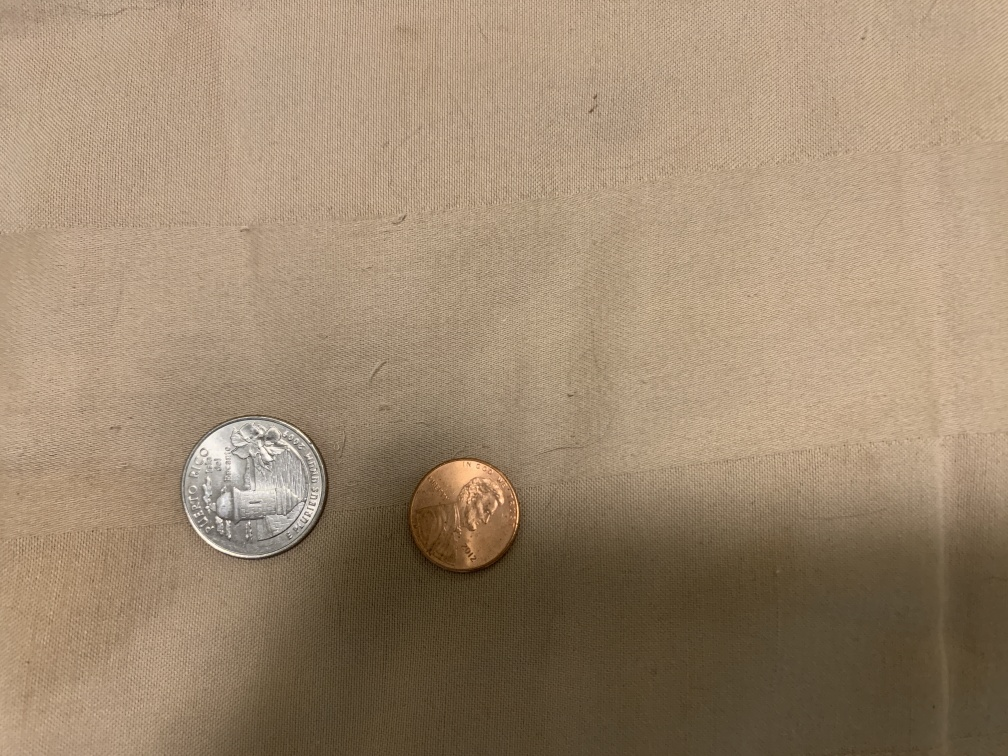penny: (401, 454, 527, 578)
quarter: (176, 412, 333, 564)
